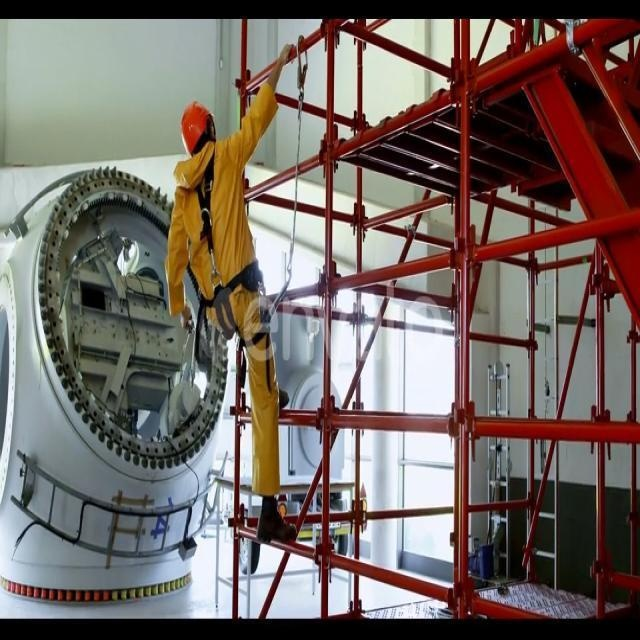Arnes_seguridad: (185, 140, 277, 377)
